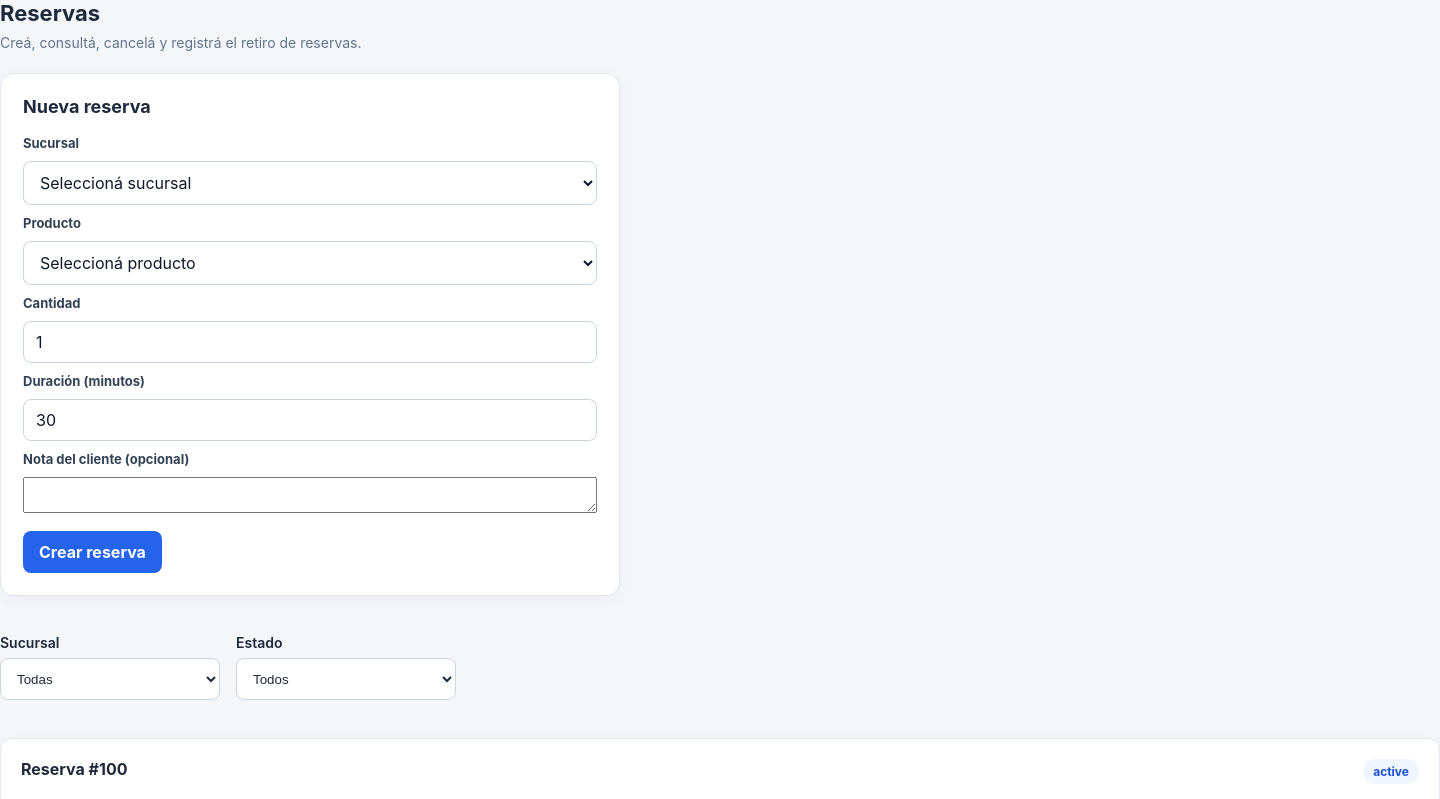
Test case: Integración de Reservations › rechaza una cantidad decimal al crear una reserva
Expected: the heading "Reserva #100" is shown, [21,759,128,779]
Select "Sucursal Centro" in the 1st dropdown at {"x": 310, "y": 183}, box [23,161,597,205]
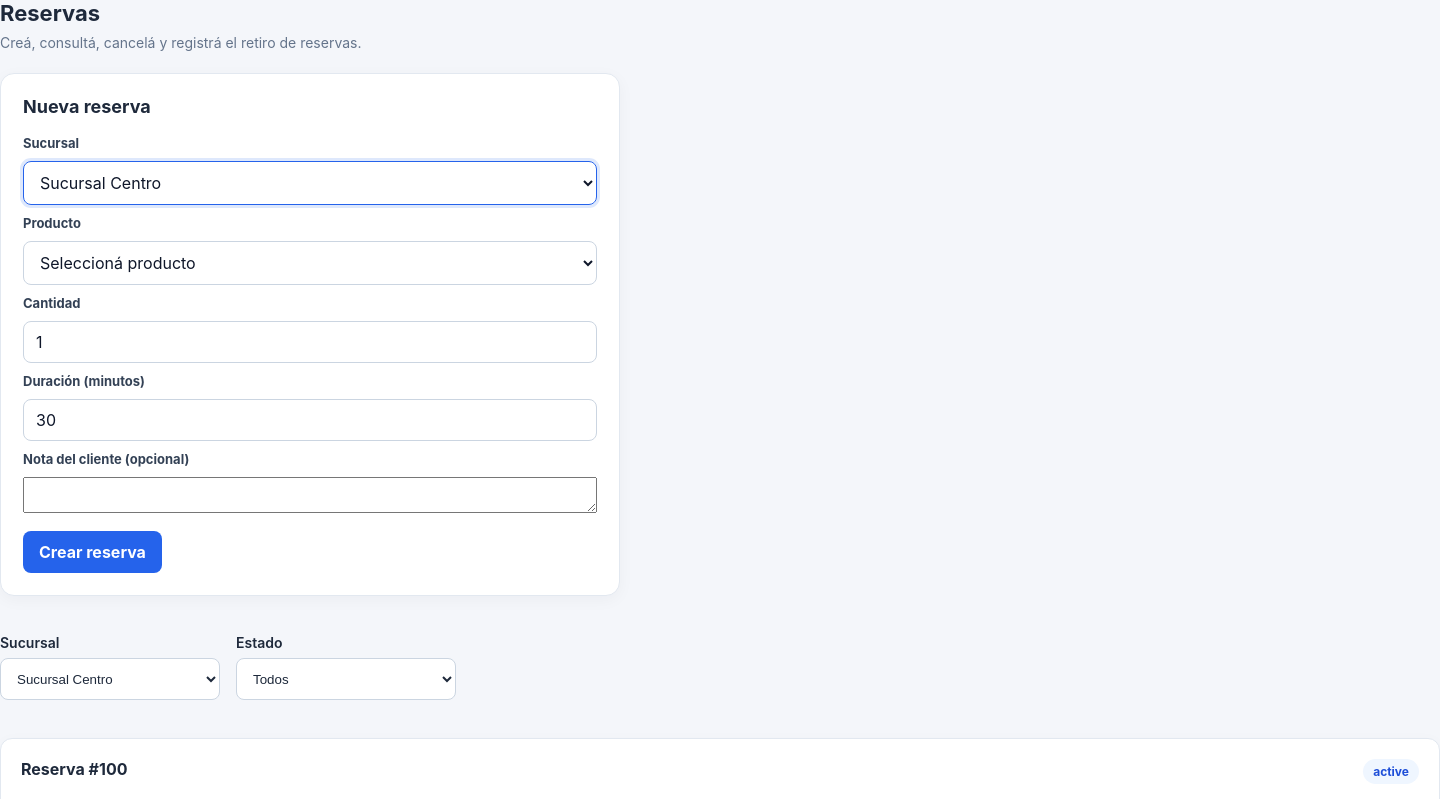
Select "Martillo" in the 2nd dropdown at {"x": 310, "y": 263}, box [23,241,597,285]
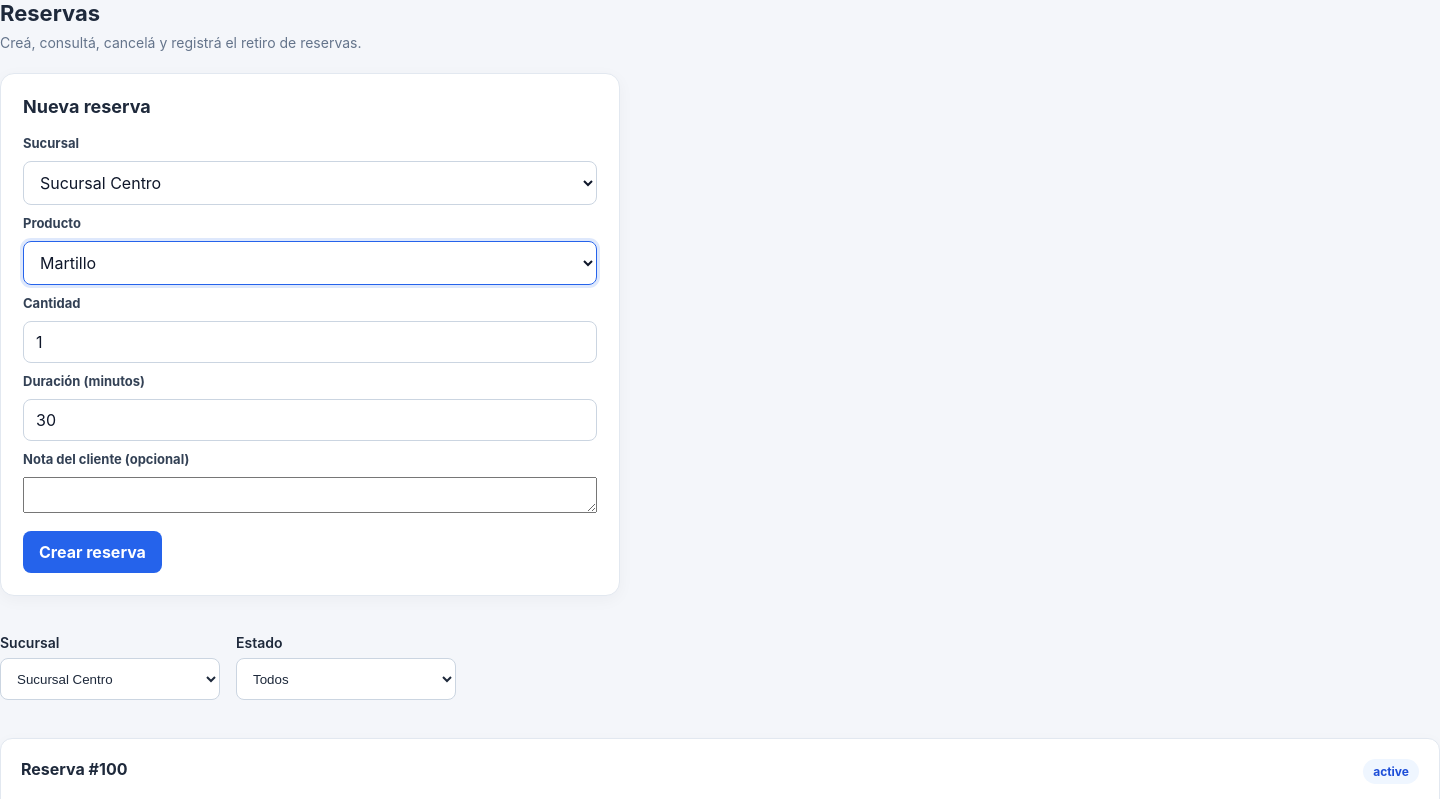
Replace the text in the 1st number field showing "1" with "1.5" at {"x": 310, "y": 342}, box [23,321,597,363]
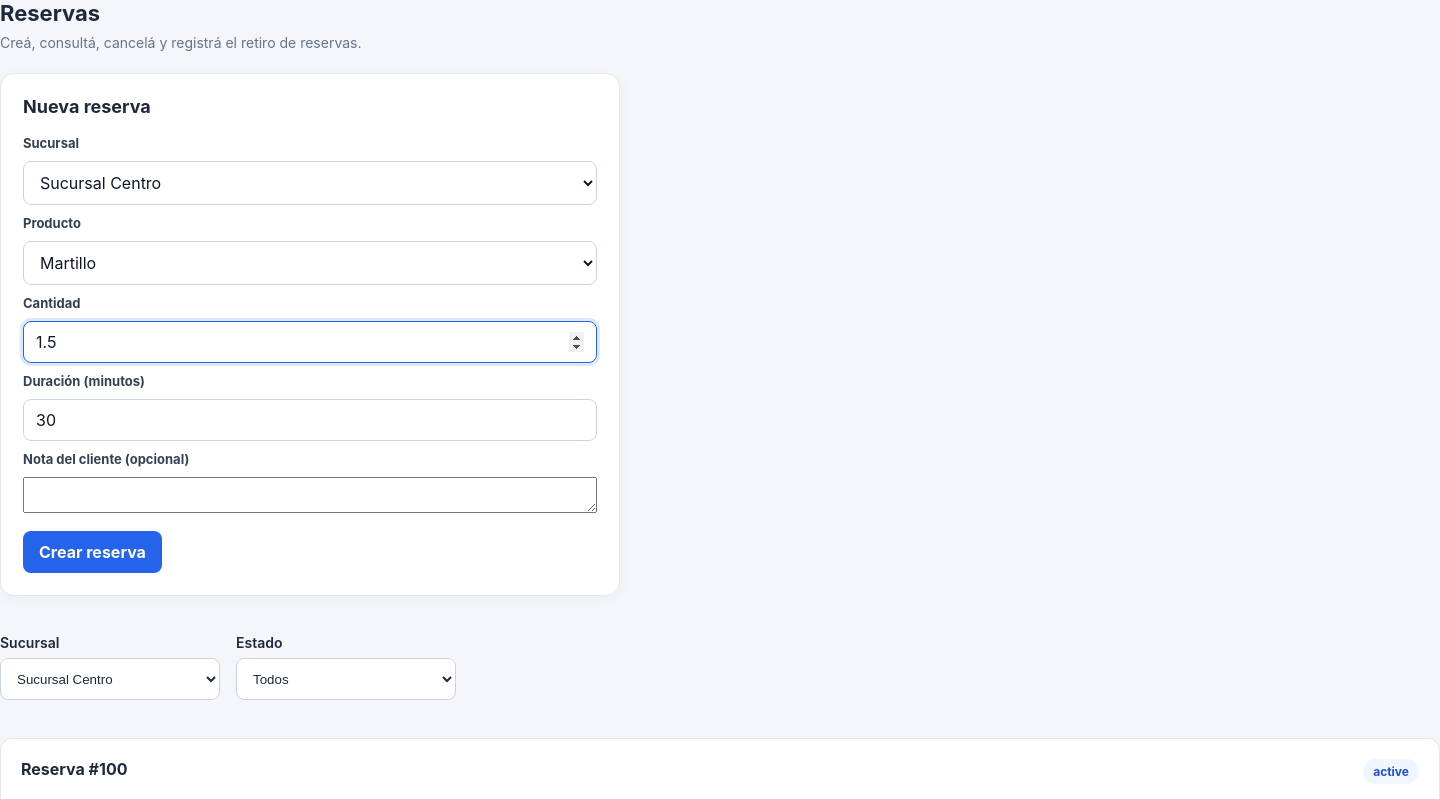
Click the button "Crear reserva" at {"x": 92, "y": 552}, box [23,531,162,573]
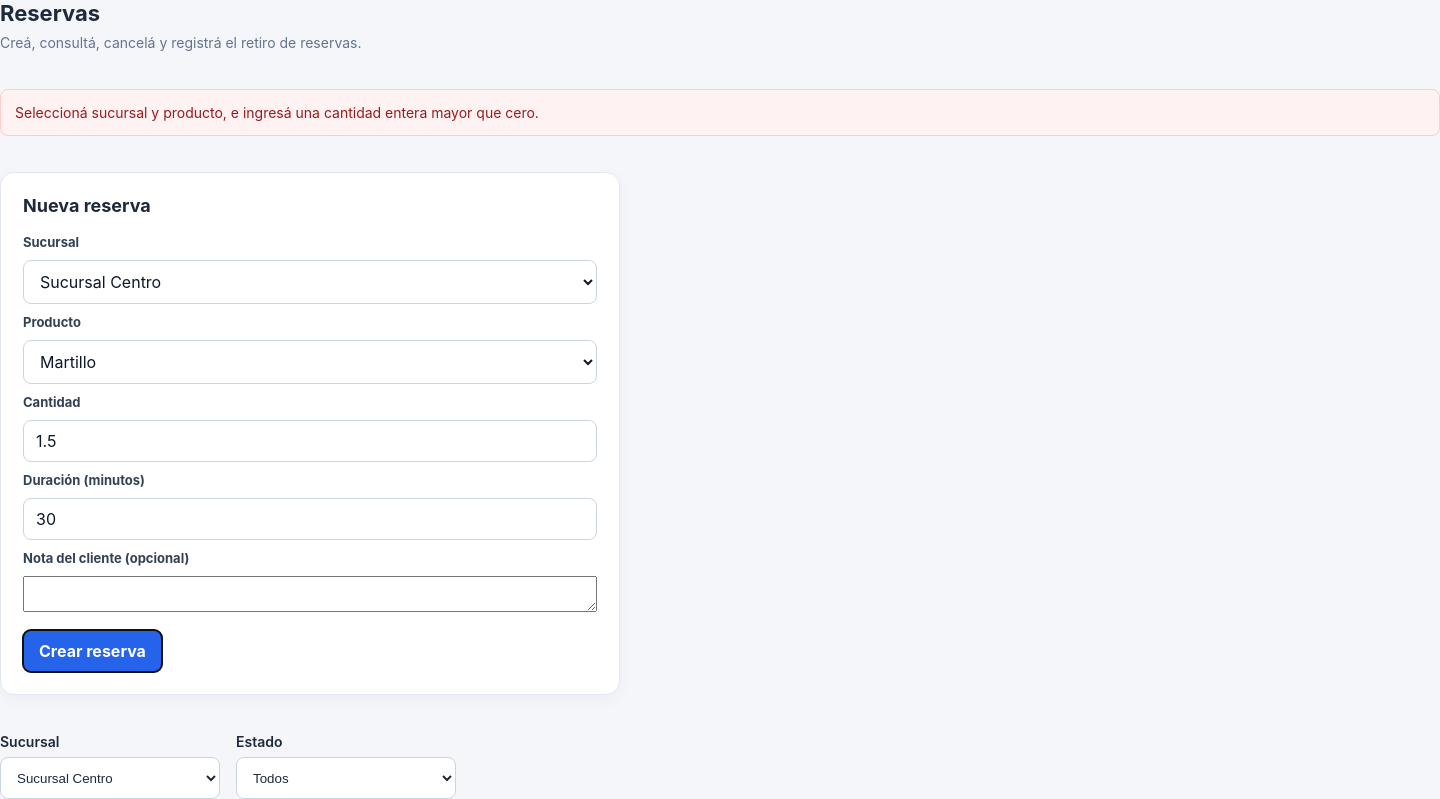
Expected: the text "Seleccioná sucursal y producto, e ingresá una cantidad entera mayor que cero." is shown, [0,89,1439,136]
